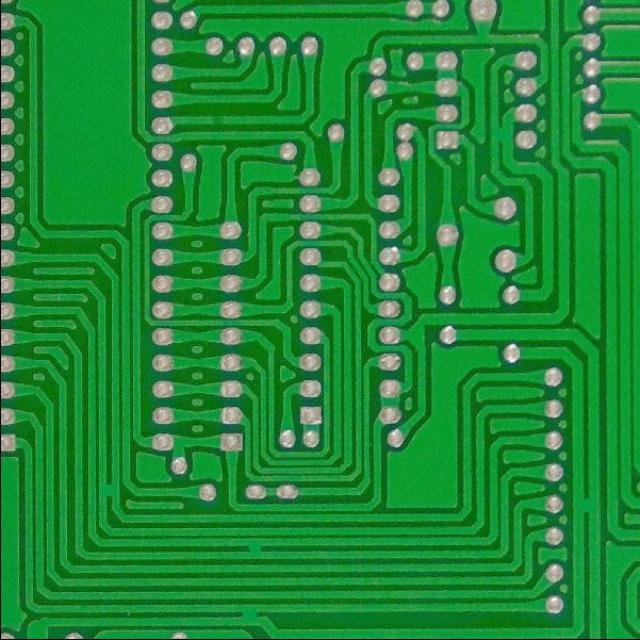short: (570, 488, 600, 524), (94, 474, 120, 509), (486, 120, 514, 148), (236, 602, 260, 632), (241, 536, 268, 562)
